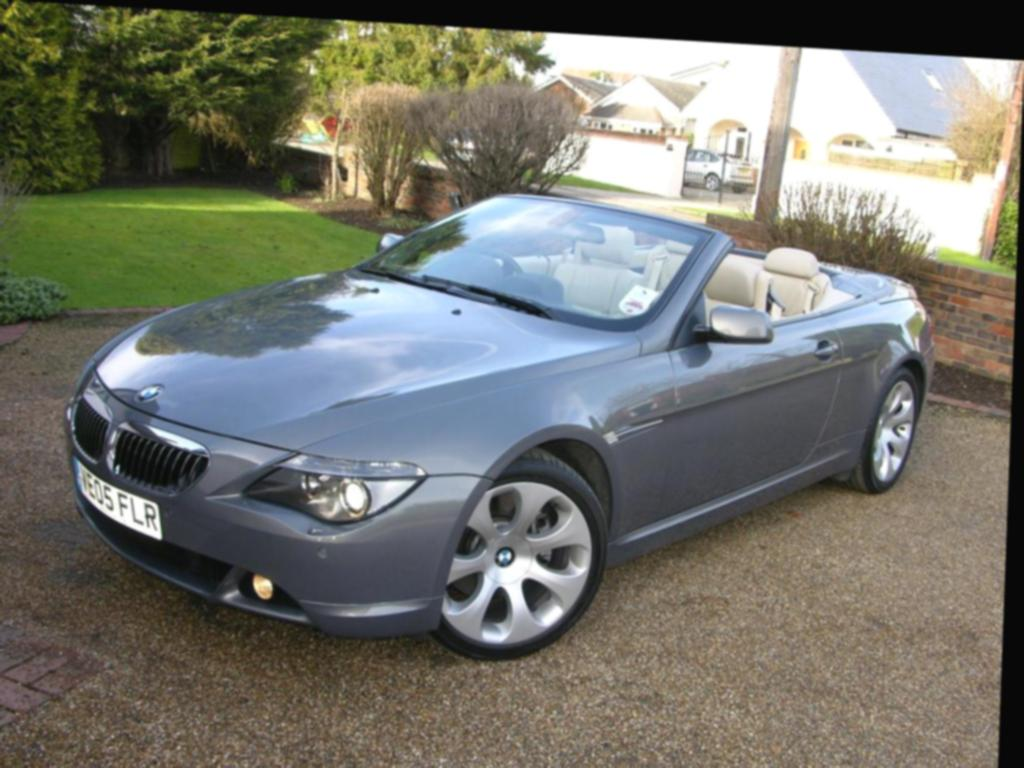License_Plate: (72, 454, 166, 539)
